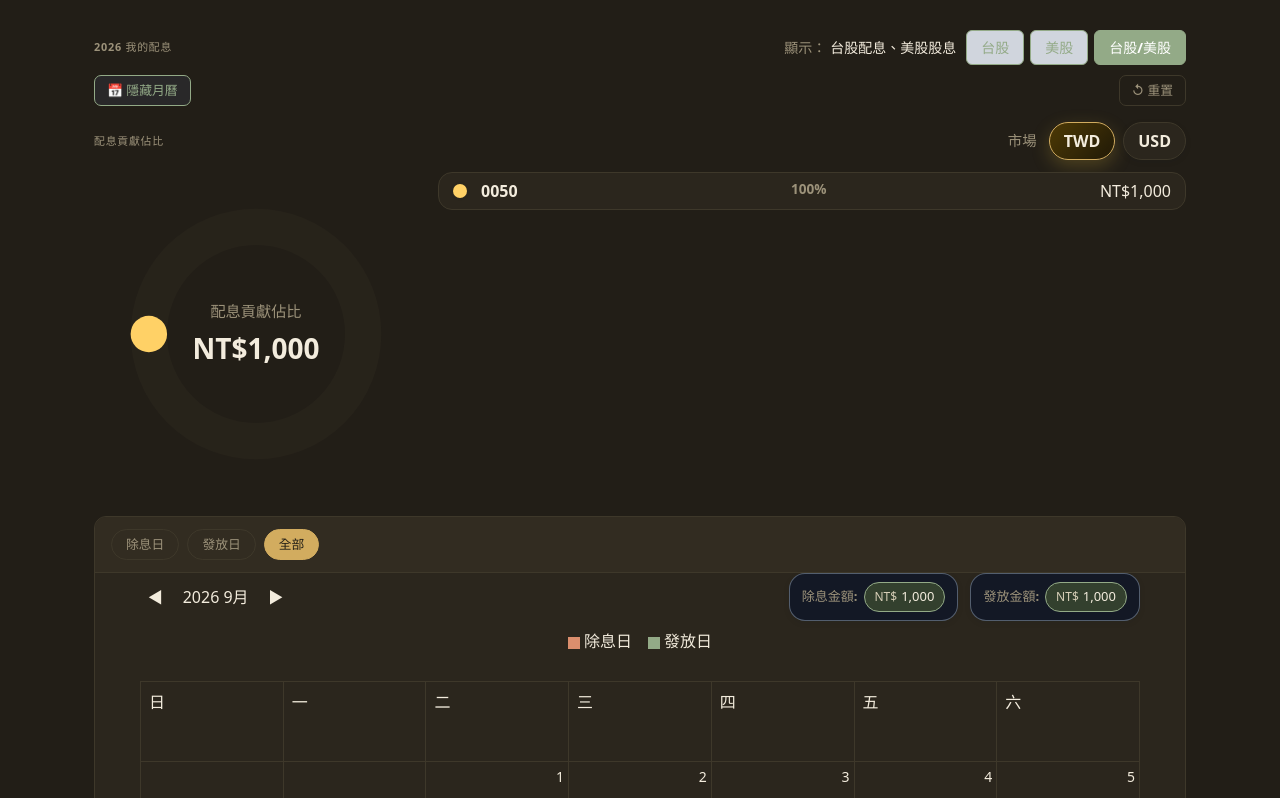
allows switching between TWD and USD dividend summaries
The image size is (1280, 798).
Step 1. Click the button "台股" → (995, 48), box [966, 30, 1024, 65]
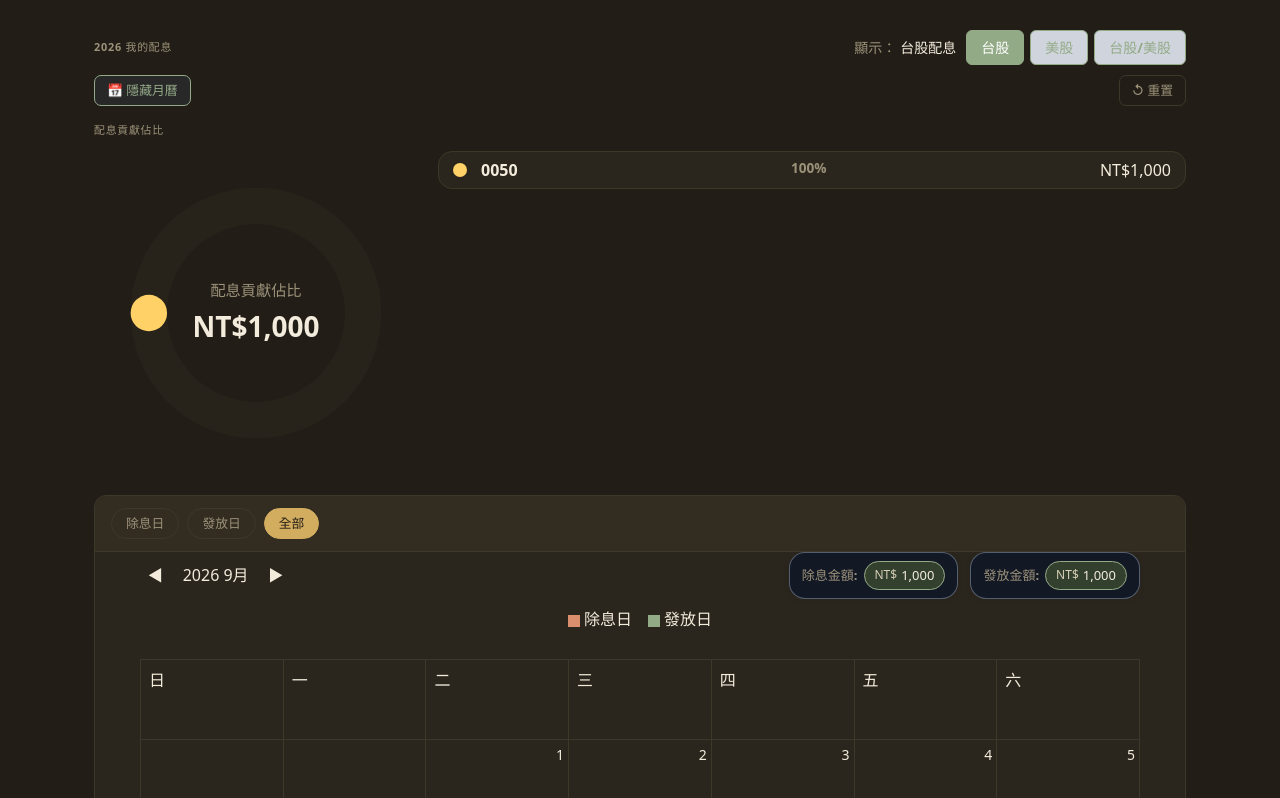
Step 2. Click the button "美股" → (1059, 48), box [1030, 30, 1088, 65]
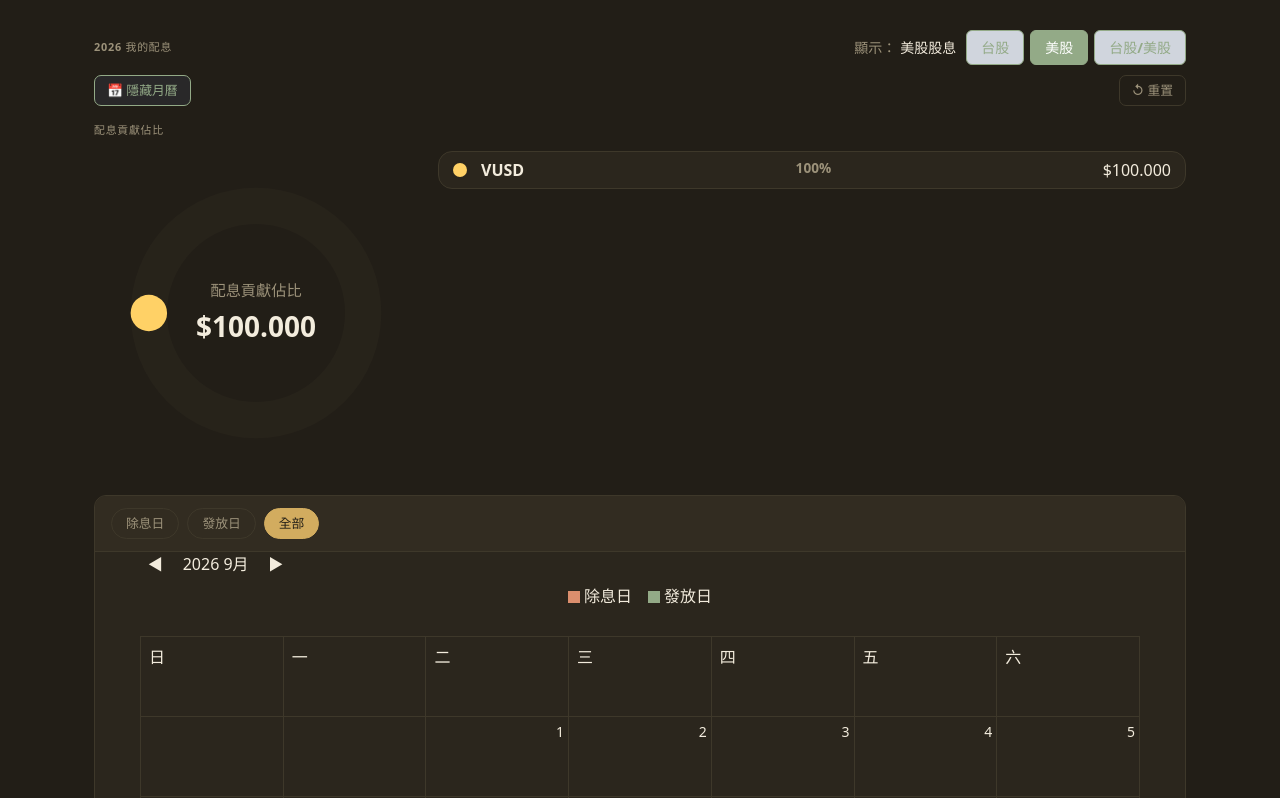
Result: the button "0050" is gone
Step 3. Click the button "台股" → (995, 48), box [966, 30, 1024, 65]
(page scrolled)
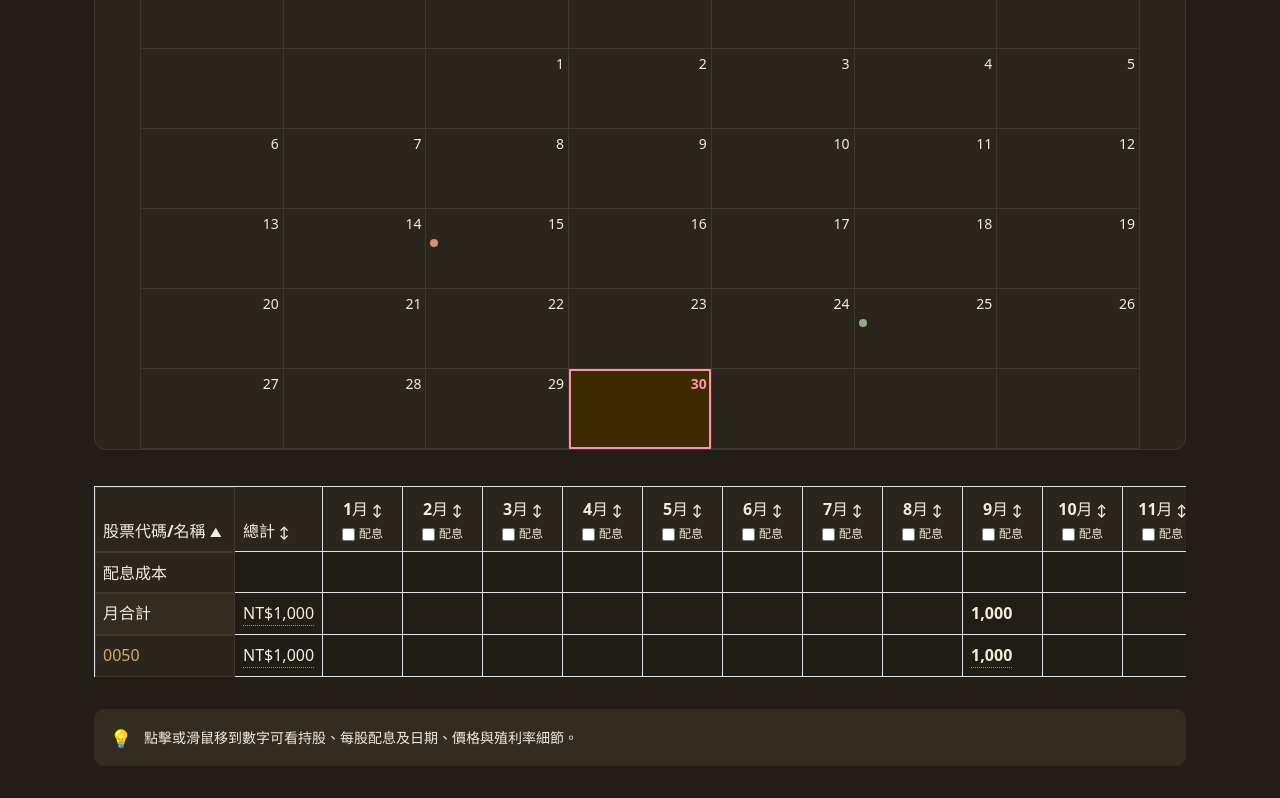
Result: the text "0050" is shown at [103, 643, 140, 667]
Result: the button "VUSD" is gone
